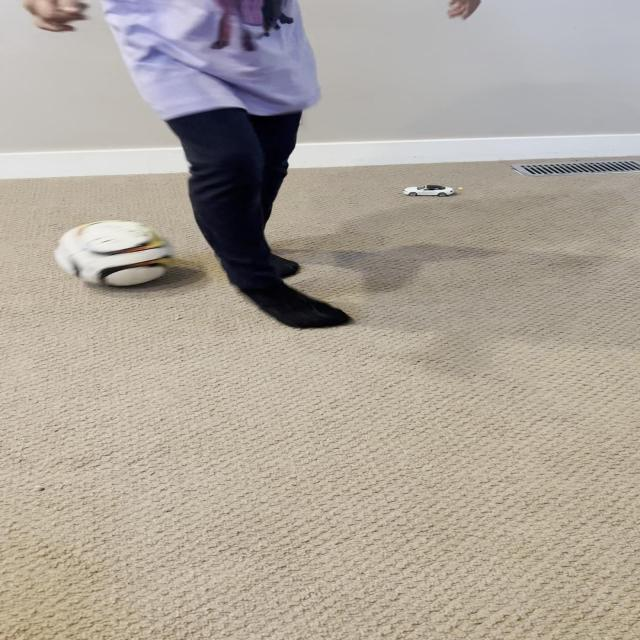Soccer Ball: (55, 220, 174, 287)
